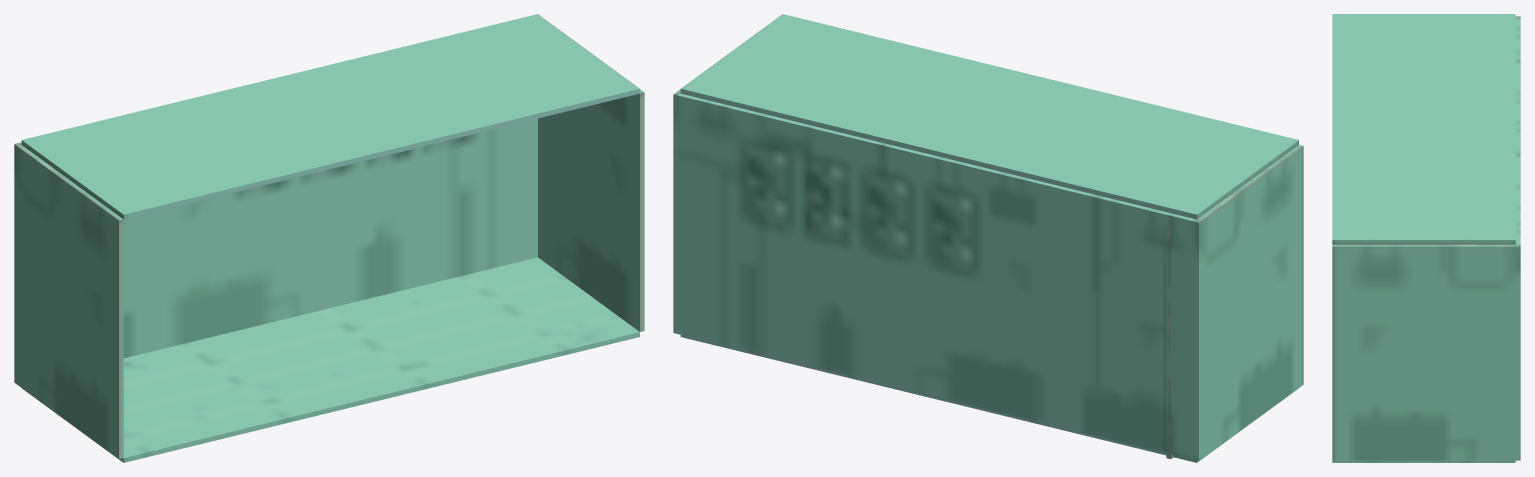
The model's file is BuildingModule_Interior_H_00.fbx.
3 renders of one model, left to right at view 1: azimuth 30°, elevation 25°; view 2: azimuth 150°, elevation 25°; view 3: azimuth 270°, elevation 25°, orthographic. The views are drawn at different scales.
Parts seen in each view (by area): view 1: BuildingModule_Interior_H_00; view 2: BuildingModule_Interior_H_00; view 3: BuildingModule_Interior_H_00.
Part boxes in pixels (<box>): BuildingModule_Interior_H_00: <box>14,14,644,462</box>; BuildingModule_Interior_H_00: <box>673,14,1303,462</box>; BuildingModule_Interior_H_00: <box>1332,14,1520,462</box>.
Bounding box in the file's own units: 565 × 255 × 195.
